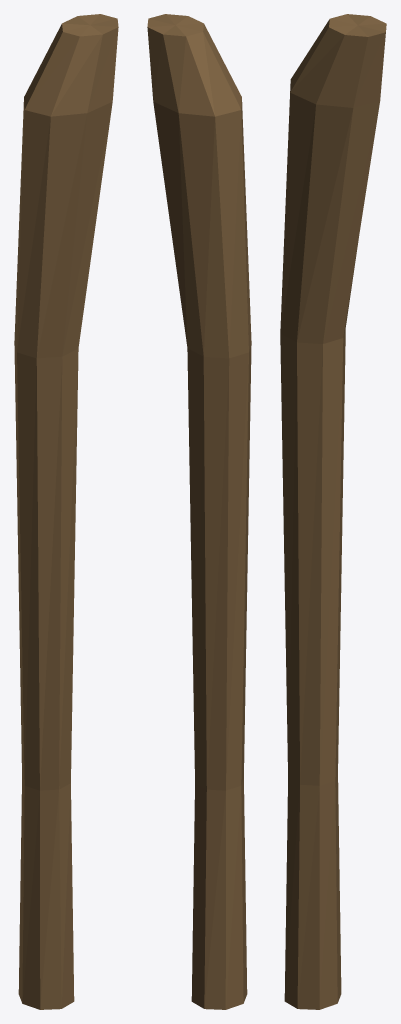
Rendered from Firebrand.glb.
3 views of the same model, side by side, from view 1: azimuth 30°, elevation 25°; view 2: azimuth 150°, elevation 25°; view 3: azimuth 330°, elevation 25° (orthographic). The views are drawn at different scales.
Parts seen in each view (by area): view 1: Firebrand; view 2: Firebrand; view 3: Firebrand.
Boxes of the visible parts, bbox=[...] form: Firebrand: bbox=[14, 14, 118, 1009]; Firebrand: bbox=[147, 14, 251, 1009]; Firebrand: bbox=[280, 14, 386, 1009].
Bounding box in the file's own units: 0.092 × 0.84 × 0.06.
